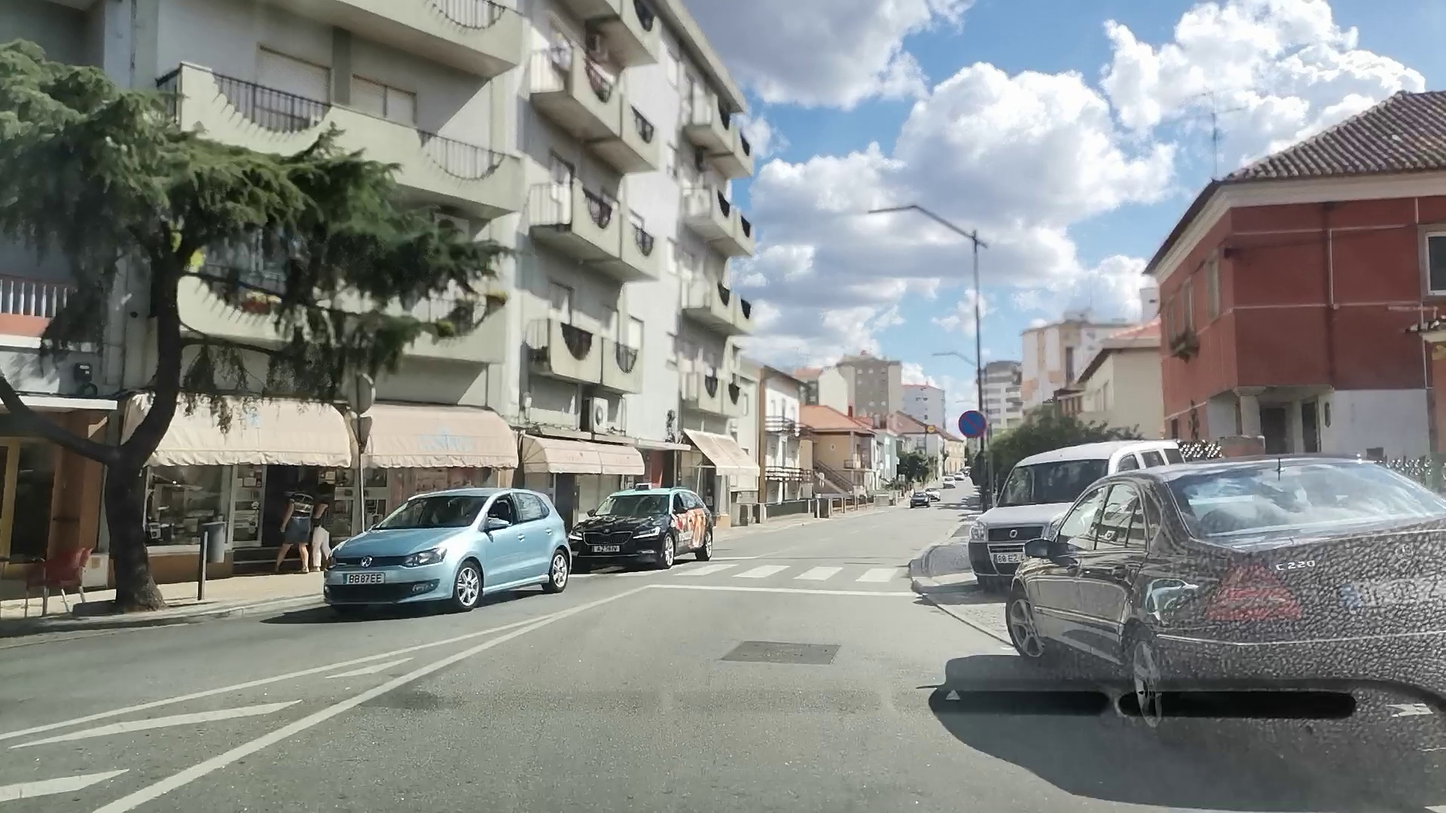Stairs: (655, 553, 896, 587)
